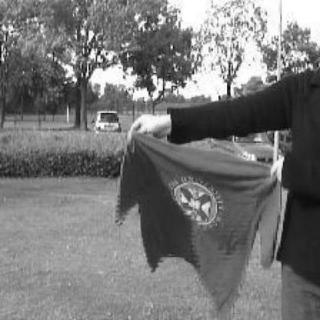other: (103, 117, 283, 317)
